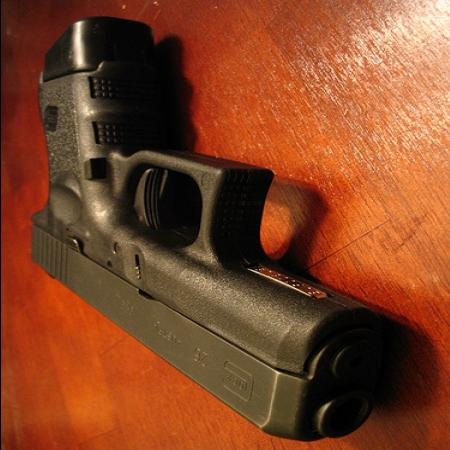Pistol: (25, 20, 392, 443)
